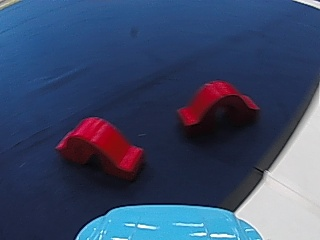bridge: (56, 115, 149, 182), (169, 75, 262, 137)
